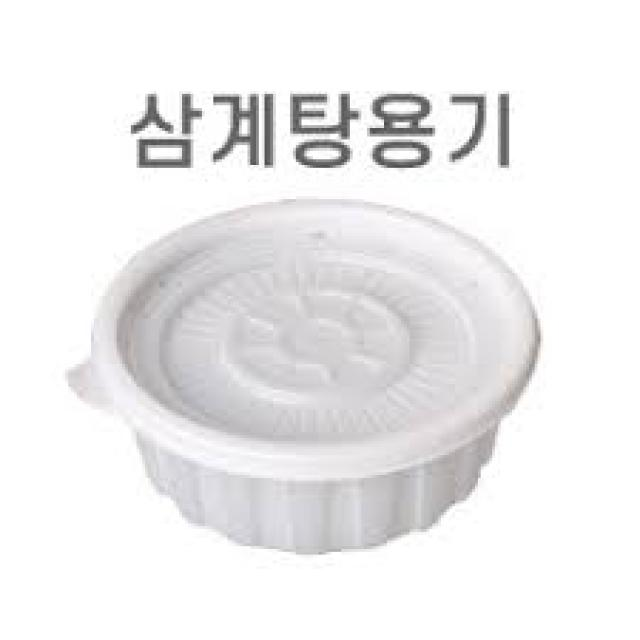disposable: (62, 188, 561, 572)
